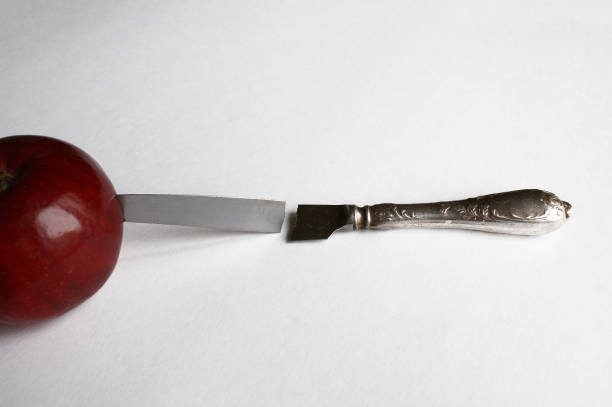knife: (287, 185, 574, 241), (110, 192, 288, 235)
